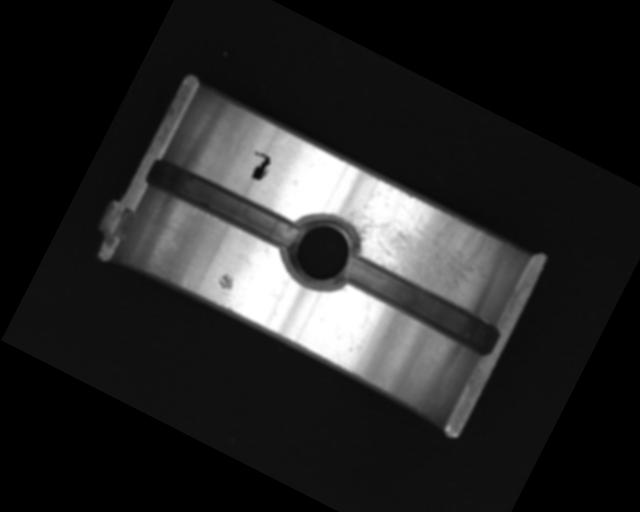blot: (242, 148, 276, 184)
bruise: (216, 271, 238, 293)
gap: (337, 251, 505, 360), (145, 154, 303, 255)
hole: (274, 202, 370, 300)
scratch: (332, 171, 514, 316)
